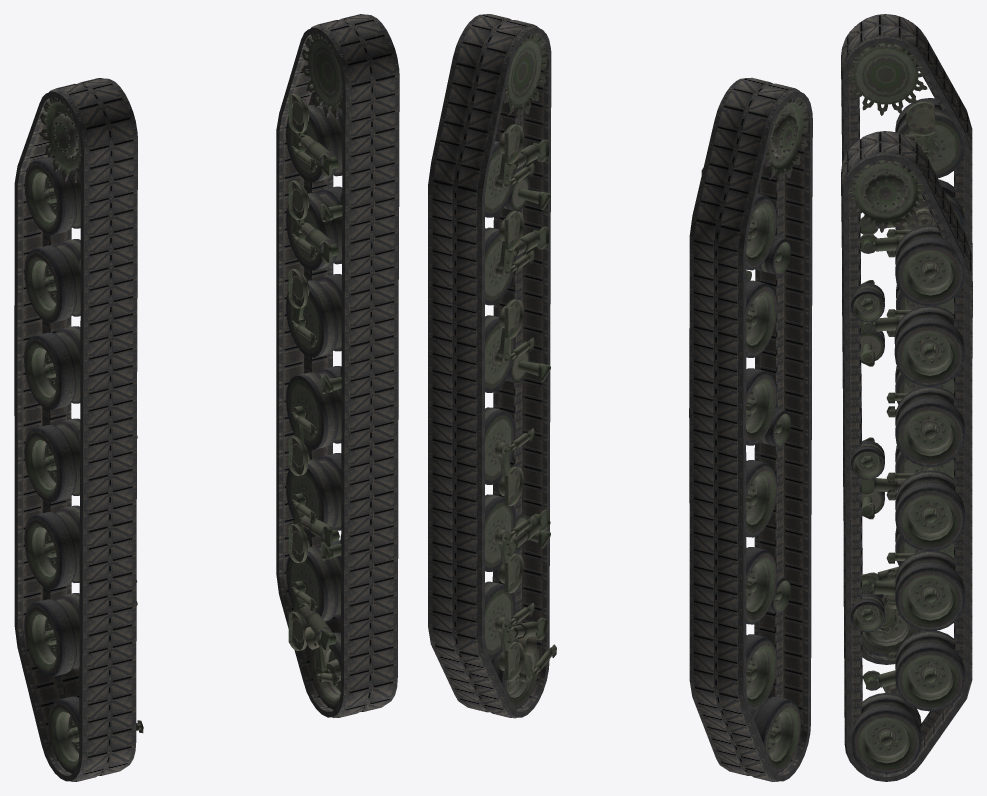
File: Chassis.glb
3 views of the same model, side by side, from view 1: azimuth 30°, elevation 25°; view 2: azimuth 150°, elevation 25°; view 3: azimuth 270°, elevation 25° (orthographic). The views are drawn at different scales.
Parts seen in each view (by area): view 1: set_2_group_0, set_3_group_0, set_0_group_0, set_1_group_0; view 2: set_2_group_0, set_3_group_0, set_0_group_0, set_1_group_0; view 3: set_0_group_0, set_3_group_0, set_1_group_0, set_2_group_0.
Boxes of the visible parts, bbox=[...] form: set_2_group_0: bbox=[14, 78, 137, 781]; set_3_group_0: bbox=[276, 14, 399, 717]; set_0_group_0: bbox=[286, 16, 398, 709]; set_1_group_0: bbox=[24, 80, 143, 773]; set_2_group_0: bbox=[689, 77, 812, 781]; set_3_group_0: bbox=[428, 14, 551, 718]; set_0_group_0: bbox=[455, 14, 556, 709]; set_1_group_0: bbox=[701, 78, 808, 773]; set_0_group_0: bbox=[842, 131, 964, 773]; set_3_group_0: bbox=[841, 131, 972, 781]; set_1_group_0: bbox=[842, 14, 964, 656]; set_2_group_0: bbox=[841, 14, 972, 664].
Size of the model in its own units: 2.93 by 6.08 by 1.15.
Materials: 4 (4 with a texture image).
